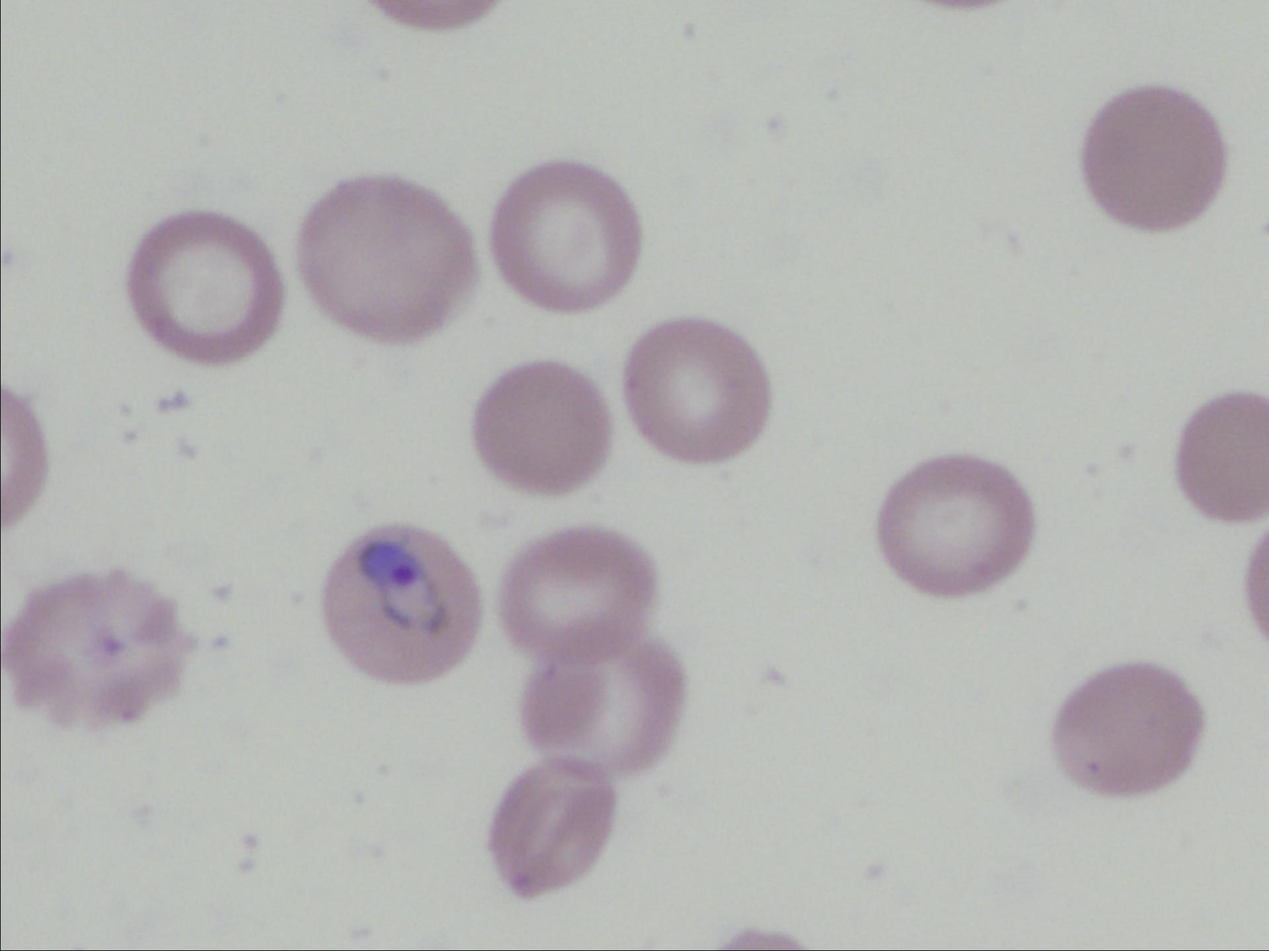Infected: (322, 521, 479, 683)
Uninfected: (7, 569, 191, 724), (304, 175, 474, 336), (130, 208, 289, 370), (868, 452, 1040, 599), (522, 622, 684, 778), (502, 523, 657, 664), (489, 166, 639, 311), (1086, 84, 1226, 236), (623, 318, 770, 458), (487, 750, 617, 903), (1051, 657, 1194, 793), (476, 360, 610, 496), (1176, 393, 1269, 517)
